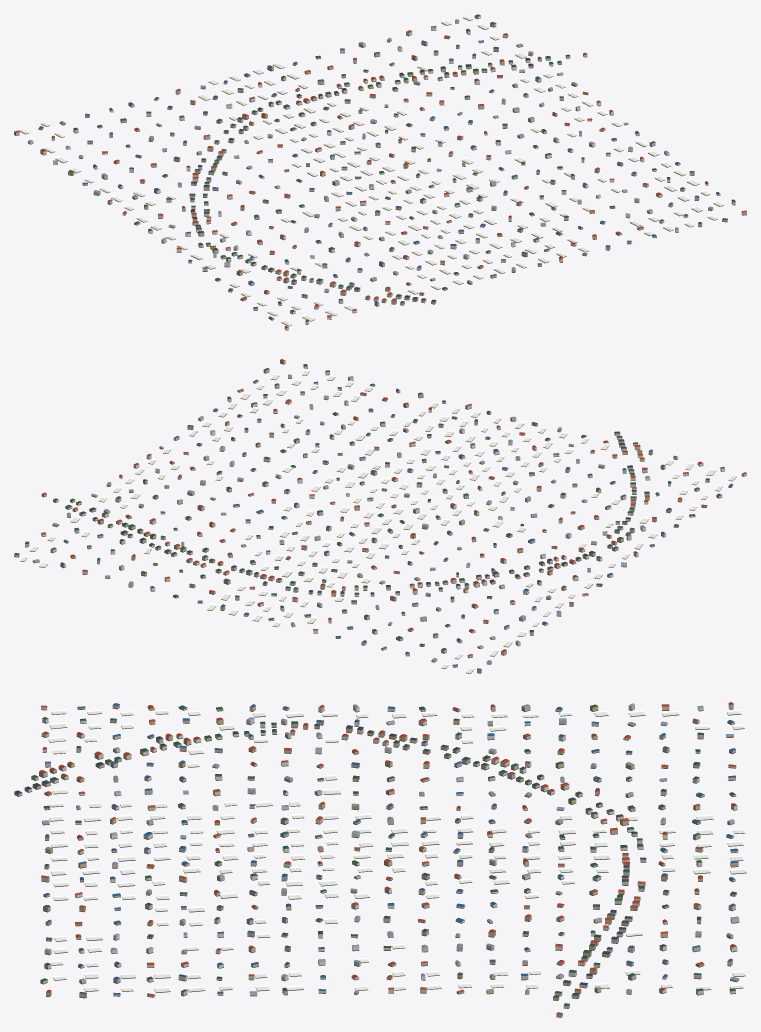
Rendered from buildings_T_W08_S02.glb.
3 renders of one model, top to bottom at view 1: azimuth 30°, elevation 25°; view 2: azimuth 150°, elevation 25°; view 3: azimuth 270°, elevation 25°, orthographic. The views are drawn at different scales.
Parts seen in each view (by area): view 1: T_W08_S02_slope_seating_foundations, T_W08_S02_roofs_agri_greenhouse_arch, T_W08_S02_walls_wall_modern_warm_white, T_W08_S02_walls_wall_french_ochre_villa, T_W08_S02_walls_wall_pastel_sand_gray, T_W08_S02_walls_wall_dalat_cream_stucco, T_W08_S02_roofs_roof_terracotta_gable, T_W08_S02_roofs_roof_pine_green_hip, T_W08_S02_roofs_roof_highland_blue_gable, T_W08_S02_roofs_roof_zinc_silver_gable, T_W08_S02_roofs_roof_slate_French_villa_hip; view 2: T_W08_S02_slope_seating_foundations, T_W08_S02_roofs_agri_greenhouse_arch, T_W08_S02_walls_wall_modern_warm_white, T_W08_S02_walls_wall_french_ochre_villa, T_W08_S02_walls_wall_pastel_sand_gray, T_W08_S02_walls_wall_dalat_cream_stucco, T_W08_S02_roofs_roof_terracotta_gable, T_W08_S02_roofs_roof_pine_green_hip, T_W08_S02_roofs_roof_highland_blue_gable, T_W08_S02_roofs_roof_zinc_silver_gable, T_W08_S02_roofs_roof_slate_French_villa_hip; view 3: T_W08_S02_slope_seating_foundations, T_W08_S02_roofs_agri_greenhouse_arch, T_W08_S02_walls_wall_modern_warm_white, T_W08_S02_walls_wall_french_ochre_villa, T_W08_S02_walls_wall_dalat_cream_stucco, T_W08_S02_walls_wall_pastel_sand_gray, T_W08_S02_roofs_roof_terracotta_gable, T_W08_S02_roofs_roof_pine_green_hip, T_W08_S02_roofs_roof_highland_blue_gable, T_W08_S02_roofs_roof_zinc_silver_gable, T_W08_S02_roofs_roof_slate_French_villa_hip.
Boxes of the visible parts, left/top/right/bottom form: T_W08_S02_slope_seating_foundations: left=14, top=17, right=746, bottom=330; T_W08_S02_roofs_agri_greenhouse_arch: left=18, top=15, right=724, bottom=325; T_W08_S02_walls_wall_modern_warm_white: left=28, top=16, right=720, bottom=330; T_W08_S02_walls_wall_french_ochre_villa: left=59, top=36, right=746, bottom=319; T_W08_S02_walls_wall_pastel_sand_gray: left=14, top=22, right=735, bottom=306; T_W08_S02_walls_wall_dalat_cream_stucco: left=38, top=23, right=727, bottom=310; T_W08_S02_roofs_roof_terracotta_gable: left=14, top=30, right=746, bottom=328; T_W08_S02_roofs_roof_pine_green_hip: left=68, top=14, right=735, bottom=321; T_W08_S02_roofs_roof_highland_blue_gable: left=39, top=26, right=719, bottom=318; T_W08_S02_roofs_roof_zinc_silver_gable: left=28, top=19, right=712, bottom=290; T_W08_S02_roofs_roof_slate_French_villa_hip: left=189, top=58, right=533, bottom=302; T_W08_S02_slope_seating_foundations: left=14, top=363, right=746, bottom=673; T_W08_S02_roofs_agri_greenhouse_arch: left=20, top=369, right=736, bottom=673; T_W08_S02_walls_wall_modern_warm_white: left=14, top=381, right=746, bottom=664; T_W08_S02_walls_wall_french_ochre_villa: left=52, top=360, right=732, bottom=661; T_W08_S02_walls_wall_pastel_sand_gray: left=32, top=369, right=699, bottom=673; T_W08_S02_walls_wall_dalat_cream_stucco: left=25, top=365, right=722, bottom=667; T_W08_S02_roofs_roof_terracotta_gable: left=41, top=359, right=746, bottom=670; T_W08_S02_roofs_roof_pine_green_hip: left=14, top=364, right=724, bottom=650; T_W08_S02_roofs_roof_highland_blue_gable: left=60, top=379, right=732, bottom=666; T_W08_S02_roofs_roof_zinc_silver_gable: left=33, top=374, right=649, bottom=662; T_W08_S02_roofs_roof_slate_French_villa_hip: left=79, top=431, right=649, bottom=594; T_W08_S02_slope_seating_foundations: left=14, top=707, right=746, bottom=1017; T_W08_S02_roofs_agri_greenhouse_arch: left=48, top=709, right=746, bottom=992; T_W08_S02_walls_wall_modern_warm_white: left=24, top=706, right=737, bottom=995; T_W08_S02_walls_wall_french_ochre_villa: left=32, top=706, right=738, bottom=1000; T_W08_S02_walls_wall_dalat_cream_stucco: left=31, top=705, right=739, bottom=1008; T_W08_S02_walls_wall_pastel_sand_gray: left=14, top=704, right=739, bottom=1017; T_W08_S02_roofs_roof_terracotta_gable: left=39, top=702, right=737, bottom=1014; T_W08_S02_roofs_roof_pine_green_hip: left=31, top=704, right=736, bottom=1005; T_W08_S02_roofs_roof_highland_blue_gable: left=43, top=703, right=738, bottom=994; T_W08_S02_roofs_roof_zinc_silver_gable: left=42, top=703, right=738, bottom=993; T_W08_S02_roofs_roof_slate_French_villa_hip: left=14, top=725, right=646, bottom=985.
Size of the model in its own units: 1864 by 35.69 by 1817.
